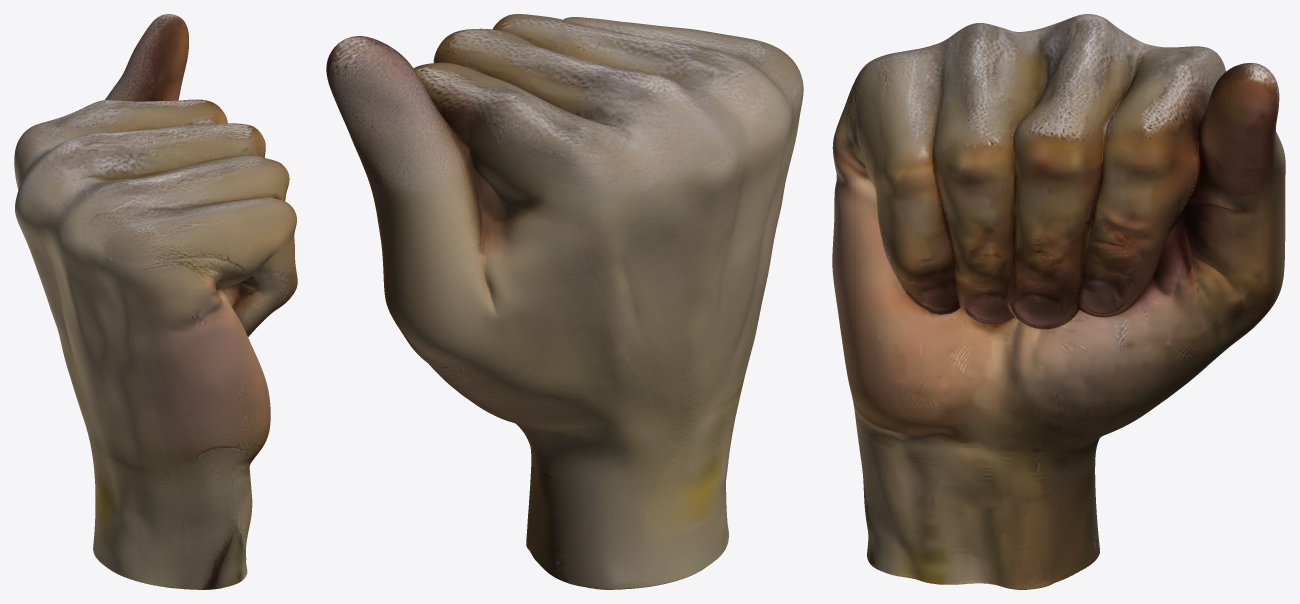
Rendered from letter_A.glb.
3 views of the same model, side by side, from view 1: azimuth 30°, elevation 25°; view 2: azimuth 150°, elevation 25°; view 3: azimuth 270°, elevation 25° (orthographic). The views are drawn at different scales.
Parts seen in each view (by area): view 1: tripo_node_69366797-d3ae-4eb5-a62f-b9a3f2b861b3; view 2: tripo_node_69366797-d3ae-4eb5-a62f-b9a3f2b861b3; view 3: tripo_node_69366797-d3ae-4eb5-a62f-b9a3f2b861b3.
Boxes of the visible parts, bbox=[...] form: tripo_node_69366797-d3ae-4eb5-a62f-b9a3f2b861b3: bbox=[14, 14, 297, 589]; tripo_node_69366797-d3ae-4eb5-a62f-b9a3f2b861b3: bbox=[326, 14, 803, 589]; tripo_node_69366797-d3ae-4eb5-a62f-b9a3f2b861b3: bbox=[832, 14, 1285, 589].
Bounding box in the file's own units: 0.569 × 1 × 0.7488.
Materials: 1 (1 with a texture image).
